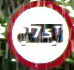Heavy Vehicles: (5, 1, 73, 68)
